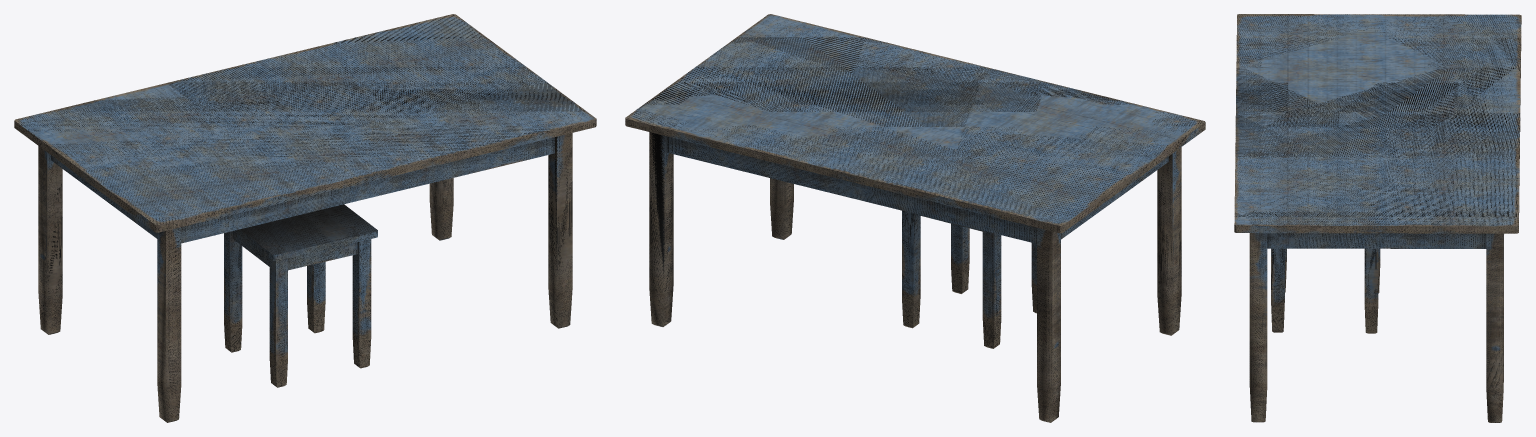
Rendered from Table.fbx.
The picture shows the model from 3 angles, left to right: view 1: azimuth 30°, elevation 25°; view 2: azimuth 150°, elevation 25°; view 3: azimuth 270°, elevation 25°; orthographic projection.
Visible parts, largest first — view 1: Mesh1, Mesh2; view 2: Mesh1, Mesh2; view 3: Mesh1, Mesh2.
Boxes of the visible parts, left/top/right/bottom form: Mesh1: left=14, top=14, right=596, bottom=422; Mesh2: left=224, top=204, right=377, bottom=387; Mesh1: left=625, top=14, right=1205, bottom=422; Mesh2: left=902, top=210, right=1036, bottom=348; Mesh1: left=1234, top=14, right=1521, bottom=422; Mesh2: left=1271, top=248, right=1380, bottom=333.
Size of the model in its own units: 2097 by 959 by 1198.
